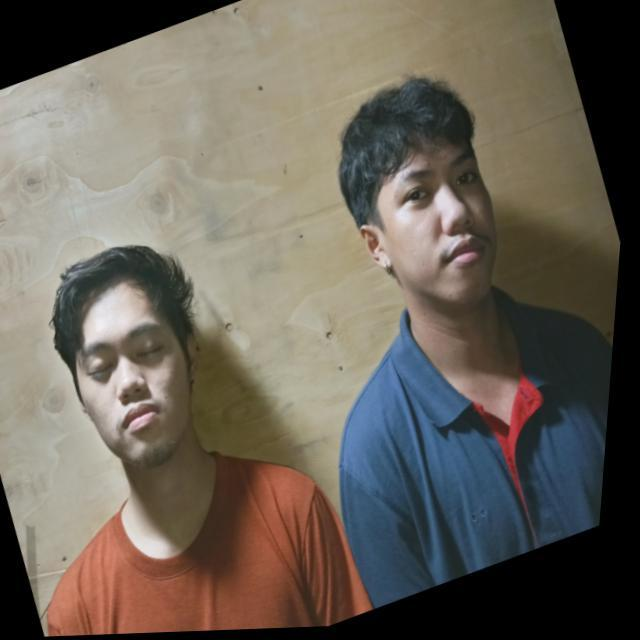Nonhelmet: (335, 73, 502, 308), (48, 241, 204, 469)
